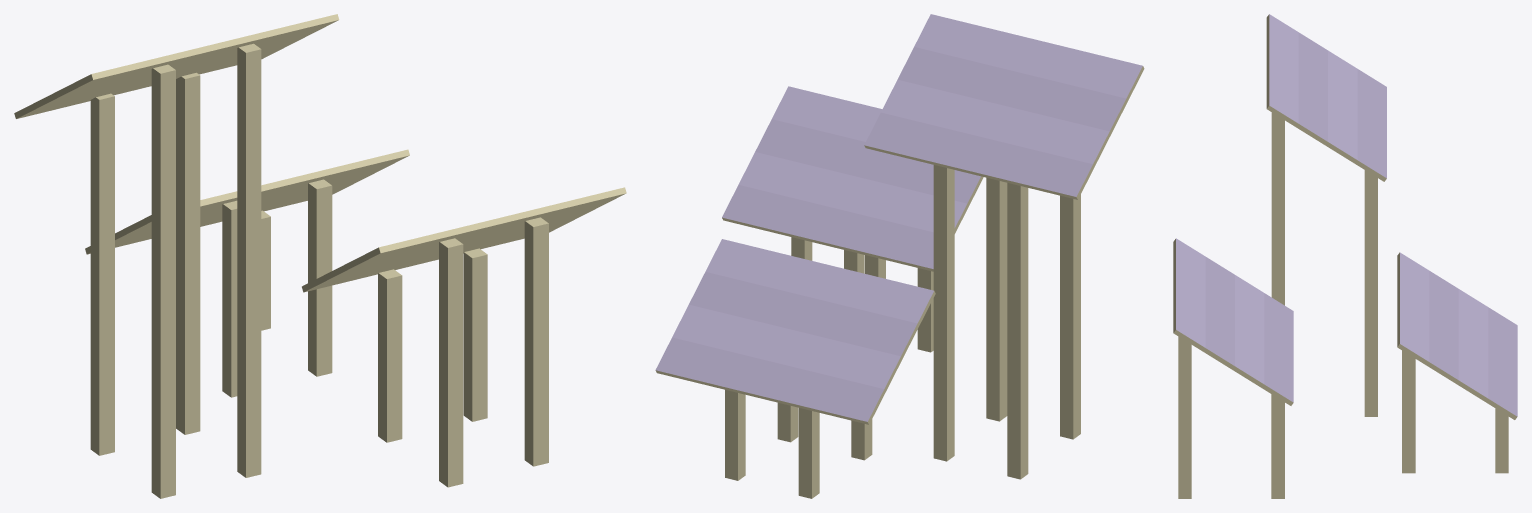
File: solar_panel.glb
3 renders of one model, left to right at view 1: azimuth 30°, elevation 25°; view 2: azimuth 150°, elevation 25°; view 3: azimuth 270°, elevation 25°, orthographic. The views are drawn at different scales.
Visible parts, largest first — view 1: Plane.001; view 2: Plane.001; view 3: Plane.001.
Part boxes in pixels (x1,y1,x2,y2): Plane.001: (14, 14, 626, 498); Plane.001: (655, 14, 1144, 498); Plane.001: (1173, 14, 1517, 498).
Bounding box in the file's own units: 1.03 × 0.9281 × 0.8539.
